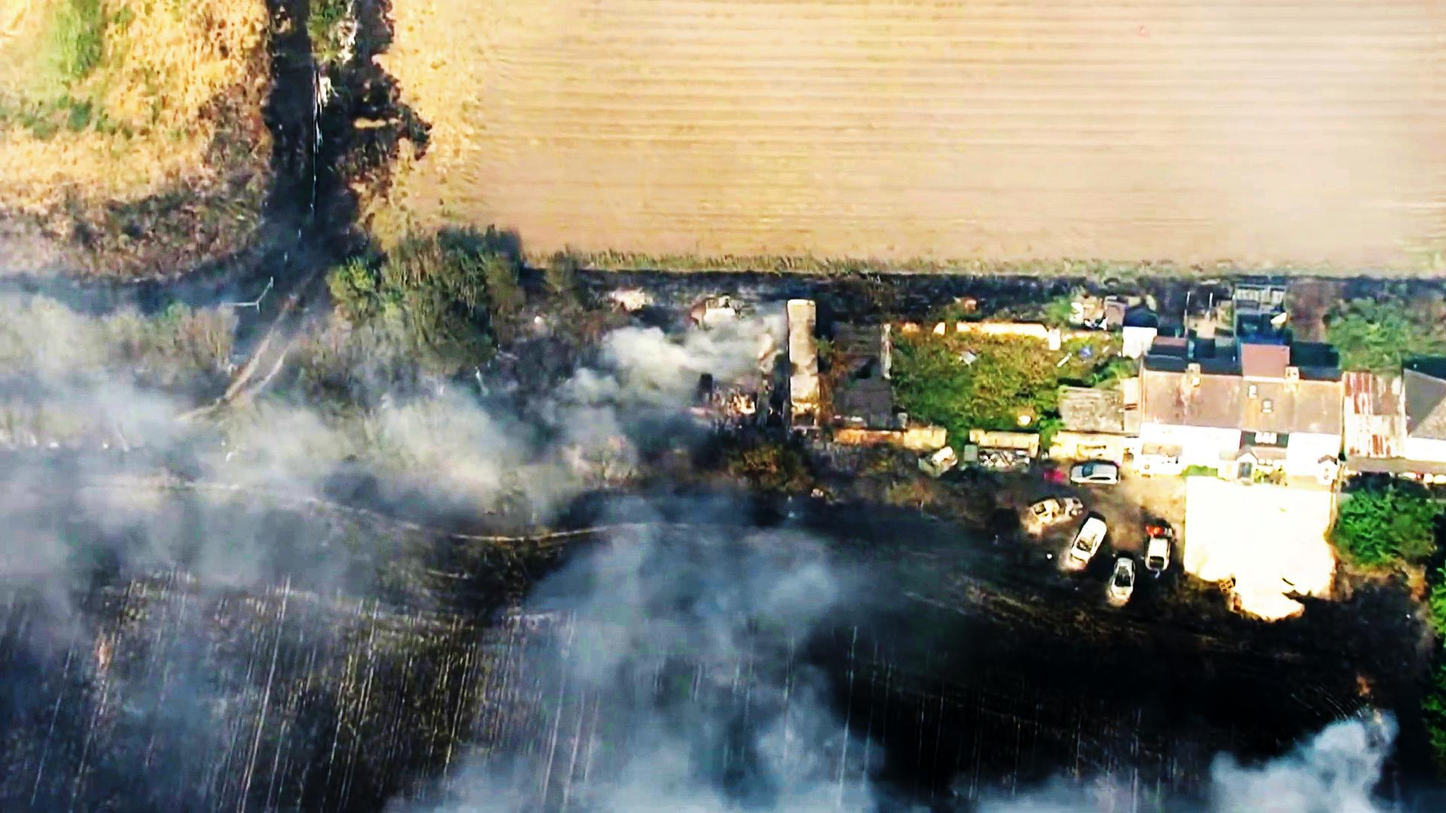smoke: (602, 317, 723, 393)
